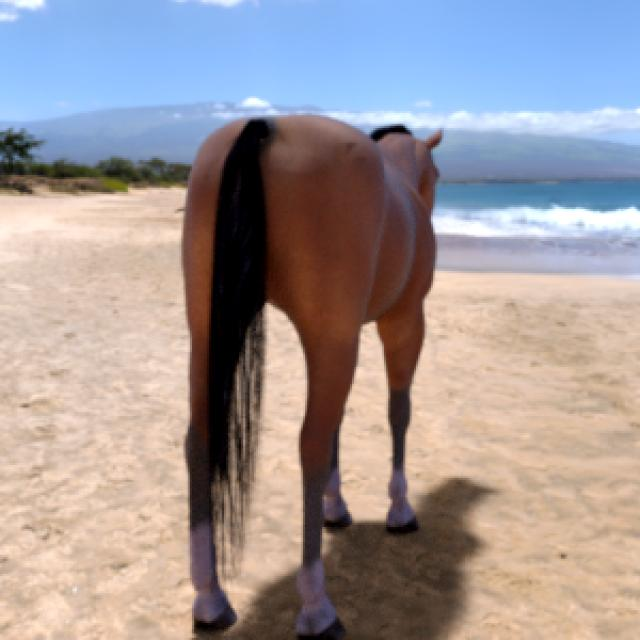horse: (184, 115, 442, 639)
